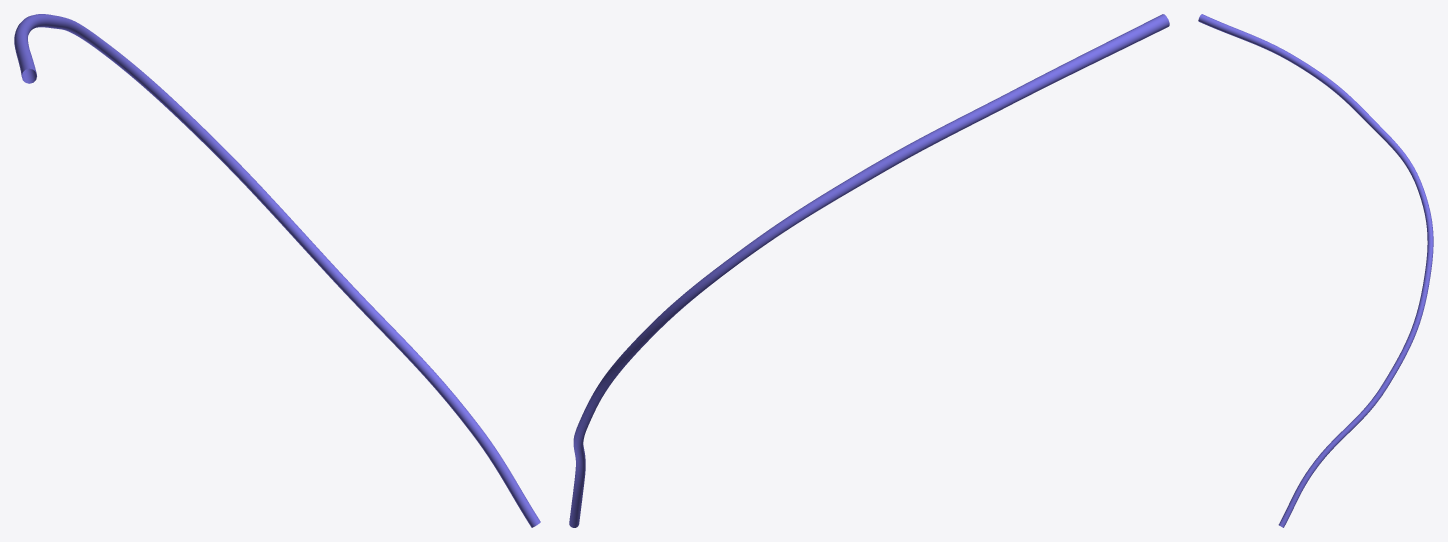
Rendered from Left_subcostal_vein.glb.
The picture shows the model from 3 angles, left to right: view 1: azimuth 30°, elevation 25°; view 2: azimuth 150°, elevation 25°; view 3: azimuth 270°, elevation 25°; orthographic projection. The views are drawn at different scales.
Visible parts, largest first — view 1: Left_subcostal_vein_BezierCurve.390; view 2: Left_subcostal_vein_BezierCurve.390; view 3: Left_subcostal_vein_BezierCurve.390.
Part boxes in pixels (left/top/right/bottom): Left_subcostal_vein_BezierCurve.390: left=14, top=14, right=540, bottom=527; Left_subcostal_vein_BezierCurve.390: left=569, top=14, right=1169, bottom=527; Left_subcostal_vein_BezierCurve.390: left=1198, top=14, right=1433, bottom=527.
Size of the model in its own units: 0.0614 by 0.065 by 0.0386.
